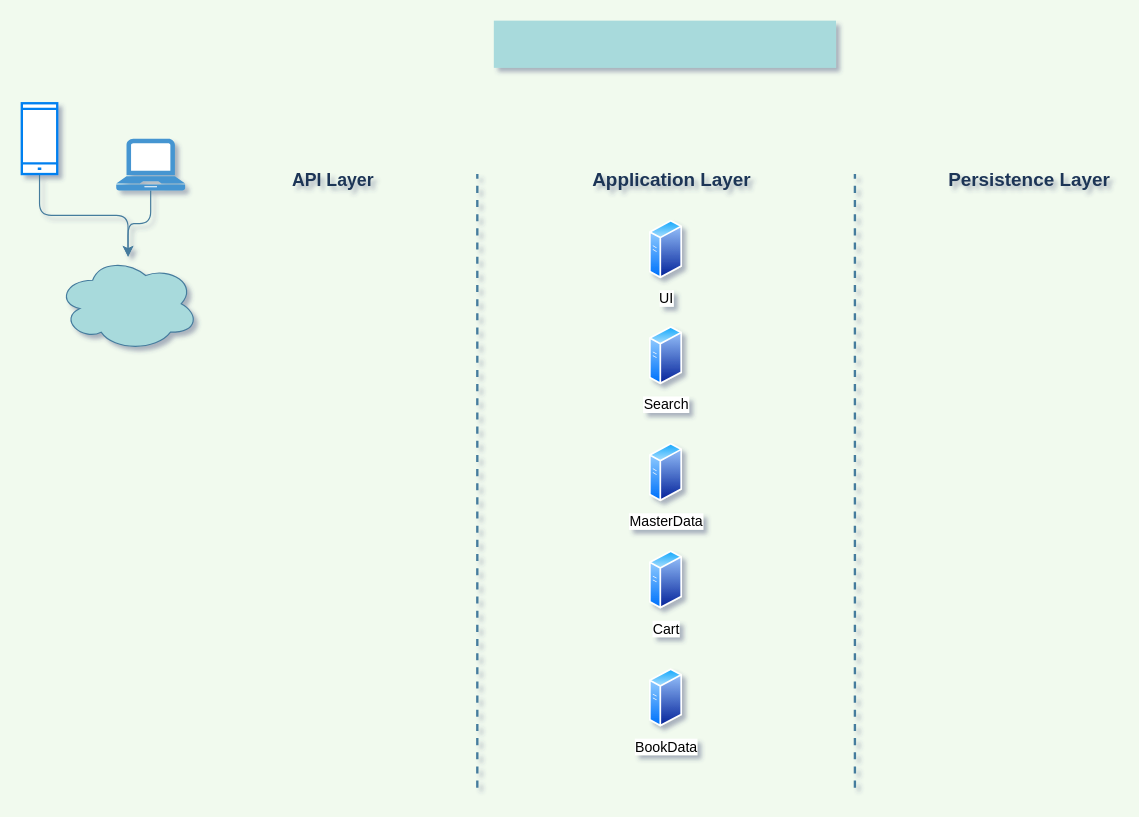
The diagram is 1139 pixels wide and 817 high, and some of its shapes have lost their labels. The centre of each missing label's shape, as x and y in pixels:
Architekturmodell zu Übung 4: (664,43)
Internet: (127,303)
